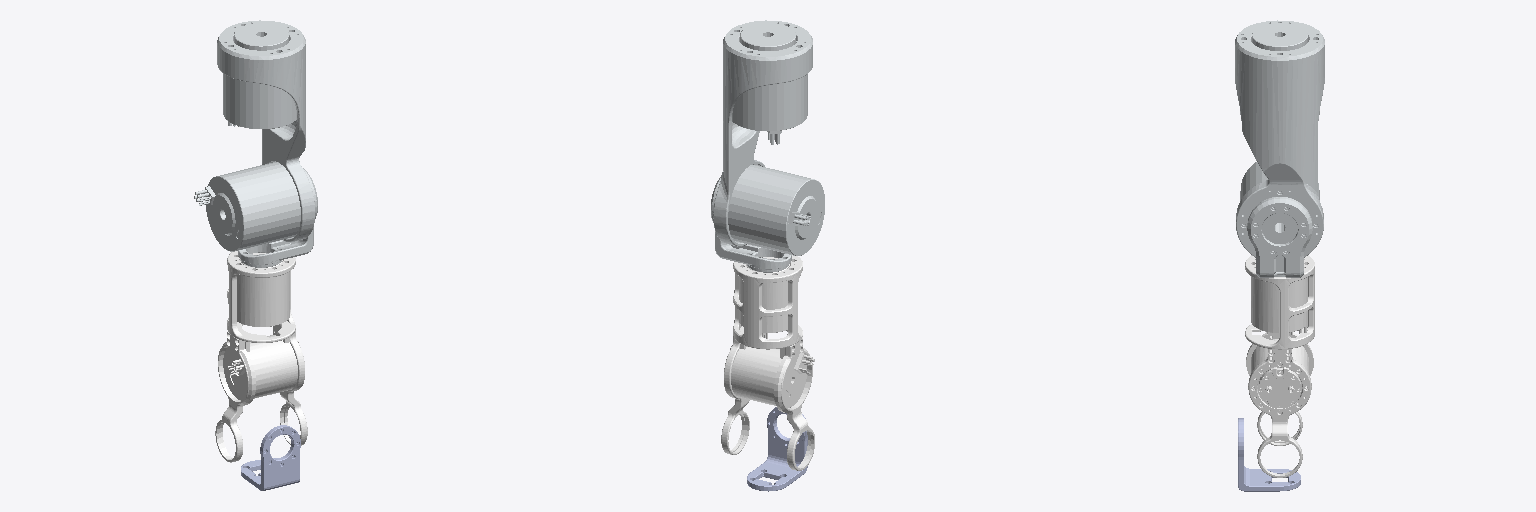
URDF robot description (astral_arm_clean):
<?xml version="1.0" encoding="utf-8"?>
<robot name="astral_arm_clean">
  <!-- single clean arm (left) — positive-MDH joints, meshes re-positioned -->
  <link name="body_link"/>
  <joint name="shoulder_mount" type="fixed">
    <origin xyz="0.09495 0.0 0.412" rpy="3.14159 -1.57079 -3.14159"/>
    <parent link="body_link"/><child link="left_base_link"/>
  </joint>
  <link name="left_base_link"/>
  <link name="left_link1">
    <inertial>
      <origin xyz="3.13242e-05 -0.00413701 0.0135973" rpy="0 0 -1.5708"/>
      <mass value="0.42514393"/>
      <inertia ixx="0.00044603372" ixy="8.7983418e-07" ixz="5.25095e-07" iyy="0.00040079554" iyz="-5.5533145e-05" izz="0.00037515957"/>
    </inertial>
    <visual>
      <origin xyz="5.62591e-23 7.48515e-23 0.11655" rpy="1.11022e-16 0 -1.5708"/>
      <geometry>
        <mesh filename="package://robot_description/meshes/astral/robot/link1.STL"/>
      </geometry>
      <material name=""><color rgba="0.898039215686275 0.917647058823529 0.929411764705882 1"/></material>
    </visual>
    <collision>
      <origin xyz="5.62591e-23 7.48515e-23 0.11655" rpy="1.11022e-16 0 -1.5708"/>
      <geometry>
        <mesh filename="package://robot_description/meshes/astral/robot/link1.STL"/>
      </geometry>
    </collision>
  </link>
  <link name="left_link2">
    <inertial>
      <origin xyz="-2.02098e-07 -0.0515368 0.0257897" rpy="-3.14159 3.67321e-06 -3.14159"/>
      <mass value="0.17039715"/>
      <inertia ixx="0.00017663293" ixy="8.6777047e-11" ixz="8.4043449e-12" iyy="0.00012422282" iyz="-5.0535861e-05" izz="0.00015484256"/>
    </inertial>
    <visual>
      <origin xyz="1.38778e-17 -2.26821e-17 0.00245" rpy="-3.14159 3.67321e-06 -3.14159"/>
      <geometry>
        <mesh filename="package://robot_description/meshes/astral/robot/link2.STL"/>
      </geometry>
      <material name=""><color rgba="0.898039215686275 0.917647058823529 0.929411764705882 1"/></material>
    </visual>
    <collision>
      <origin xyz="1.38778e-17 -2.26821e-17 0.00245" rpy="-3.14159 3.67321e-06 -3.14159"/>
      <geometry>
        <mesh filename="package://robot_description/meshes/astral/robot/link2.STL"/>
      </geometry>
    </collision>
  </link>
  <link name="left_link3">
    <inertial>
      <origin xyz="0.000542082 0.00527332 -0.0739358" rpy="-3.14159 0 1.5708"/>
      <mass value="0.82819752"/>
      <inertia ixx="0.001489869" ixy="-4.7065559e-06" ixz="-1.9878592e-05" iyy="0.001465124" iyz="-0.00017105246" izz="0.0006413192"/>
    </inertial>
    <visual>
      <origin xyz="8.52551e-07 -8.99622e-09 -0.12995" rpy="-3.14159 0 1.5708"/>
      <geometry>
        <mesh filename="package://robot_description/meshes/astral/robot/link3.STL"/>
      </geometry>
      <material name=""><color rgba="0.898039215686275 0.917647058823529 0.929411764705882 1"/></material>
    </visual>
    <collision>
      <origin xyz="8.52551e-07 -8.99622e-09 -0.12995" rpy="-3.14159 0 1.5708"/>
      <geometry>
        <mesh filename="package://robot_description/meshes/astral/robot/link3.STL"/>
      </geometry>
    </collision>
  </link>
  <link name="left_link4">
    <inertial>
      <origin xyz="-1.66812e-06 -0.0305679 -0.0269253" rpy="-3.14159 0 3.14159"/>
      <mass value="0.073287179"/>
      <inertia ixx="6.1153384e-05" ixy="-1.9967372e-10" ixz="2.818663e-09" iyy="3.97927e-05" iyz="1.6775908e-05" izz="5.3300851e-05"/>
    </inertial>
    <visual>
      <origin xyz="-1.33007e-06 -1.79947e-08 5.0009e-05" rpy="-3.14159 0 3.14159"/>
      <geometry>
        <mesh filename="package://robot_description/meshes/astral/robot/link4.STL"/>
      </geometry>
      <material name=""><color rgba="0.898039215686275 0.917647058823529 0.929411764705882 1"/></material>
    </visual>
    <collision>
      <origin xyz="-1.33007e-06 -1.79947e-08 5.0009e-05" rpy="-3.14159 0 3.14159"/>
      <geometry>
        <mesh filename="package://robot_description/meshes/astral/robot/link4.STL"/>
      </geometry>
    </collision>
  </link>
  <link name="left_link5">
    <inertial>
      <origin xyz="0.00172649 0.000917268 -0.103295" rpy="7.3464e-06 -3.67321e-06 1.5708"/>
      <mass value="0.35747963"/>
      <inertia ixx="0.00024554352" ixy="-3.26533e-07" ixz="-2.004814e-06" iyy="0.00023855009" iyz="-2.2637367e-07" izz="0.00014874829"/>
    </inertial>
    <visual>
      <origin xyz="1.6309e-06 -3.09829e-07 -0.1446" rpy="7.3464e-06 -3.67321e-06 1.5708"/>
      <geometry>
        <mesh filename="package://robot_description/meshes/astral/robot/link5.STL"/>
      </geometry>
      <material name=""><color rgba="1 1 1 1"/></material>
    </visual>
    <collision>
      <origin xyz="1.6309e-06 -3.09829e-07 -0.1446" rpy="7.3464e-06 -3.67321e-06 1.5708"/>
      <geometry>
        <mesh filename="package://robot_description/meshes/astral/robot/link5.STL"/>
      </geometry>
    </collision>
  </link>
  <link name="left_link6">
    <inertial>
      <origin xyz="7.58827e-05 -0.00209334 1.39388e-05" rpy="7.34638e-06 1.34923e-11 1.57079"/>
      <mass value="0.2233261"/>
      <inertia ixx="0.00012507521" ixy="-5.1107819e-07" ixz="1.4489751e-09" iyy="0.00011919168" iyz="5.4472443e-09" izz="0.00011688215"/>
    </inertial>
    <visual>
      <origin xyz="1.08921e-07 2.82029e-06 0.0346008" rpy="7.34638e-06 1.34923e-11 1.57079"/>
      <geometry>
        <mesh filename="package://robot_description/meshes/astral/robot/link6.STL"/>
      </geometry>
      <material name=""><color rgba="0.866666666666667 0.866666666666667 0.890196078431372 1"/></material>
    </visual>
    <collision>
      <origin xyz="1.08921e-07 2.82029e-06 0.0346008" rpy="7.34638e-06 1.34923e-11 1.57079"/>
      <geometry>
        <mesh filename="package://robot_description/meshes/astral/robot/link6.STL"/>
      </geometry>
    </collision>
  </link>
  <link name="left_link7">
    <inertial>
      <origin xyz="-5.11057e-05 -0.0259945 0.019984" rpy="1.46928e-05 -3.67316e-06 -7.34641e-06"/>
      <mass value="0.015413107"/>
      <inertia ixx="8.042906e-06" ixy="-9.9996338e-12" ixz="-9.6024397e-12" iyy="5.6512939e-06" iyz="-2.0667749e-06" izz="6.483251e-06"/>
    </inertial>
    <visual>
      <origin xyz="-5.0841e-05 -1.71344e-07 -2.82029e-06" rpy="1.46928e-05 -3.67316e-06 -7.34641e-06"/>
      <geometry>
        <mesh filename="package://robot_description/meshes/astral/robot/link7.STL"/>
      </geometry>
      <material name=""><color rgba="0.792156862745098 0.819607843137255 0.933333333333333 1"/></material>
    </visual>
    <collision>
      <origin xyz="-5.0841e-05 -1.71344e-07 -2.82029e-06" rpy="1.46928e-05 -3.67316e-06 -7.34641e-06"/>
      <geometry>
        <mesh filename="package://robot_description/meshes/astral/robot/link7.STL"/>
      </geometry>
    </collision>
  </link>
  <joint name="left_joint1" type="revolute">
    <origin xyz="0 0 -0.11655" rpy="0 0 3.14159"/>
    <parent link="left_base_link"/>
    <child link="left_link1"/>
    <axis xyz="0 0 1"/>
    <limit lower="-3.15" upper="3.15" effort="100" velocity="10"/>
  </joint>
  <joint name="left_joint2" type="revolute">
    <origin xyz="0 -0 0" rpy="1.5708 -1.5708 0"/>
    <parent link="left_link1"/>
    <child link="left_link2"/>
    <axis xyz="0 0 1"/>
    <limit lower="-3.15" upper="3.15" effort="100" velocity="10"/>
  </joint>
  <joint name="left_joint3" type="revolute">
    <origin xyz="0 -0.246 1.50632e-17" rpy="1.5708 -1.5708 0"/>
    <parent link="left_link2"/>
    <child link="left_link3"/>
    <axis xyz="0 0 1"/>
    <limit lower="-3.15" upper="3.15" effort="100" velocity="10"/>
  </joint>
  <joint name="left_joint4" type="revolute">
    <origin xyz="0 -0 0" rpy="-1.5708 0 3.14159"/>
    <parent link="left_link3"/>
    <child link="left_link4"/>
    <axis xyz="0 0 1"/>
    <limit lower="-3.15" upper="3.15" effort="100" velocity="10"/>
  </joint>
  <joint name="left_joint5" type="revolute">
    <origin xyz="0 -0.2265 1.38691e-17" rpy="-1.5708 0 3.14159"/>
    <parent link="left_link4"/>
    <child link="left_link5"/>
    <axis xyz="0 0 1"/>
    <limit lower="-3.15" upper="3.15" effort="100" velocity="10"/>
  </joint>
  <joint name="left_joint6" type="revolute">
    <origin xyz="0 -0 0" rpy="1.5708 1.5708 0"/>
    <parent link="left_link5"/>
    <child link="left_link6"/>
    <axis xyz="0 0 1"/>
    <limit lower="-3.15" upper="3.15" effort="100" velocity="10"/>
  </joint>
  <joint name="left_joint7" type="revolute">
    <origin xyz="0 -0.0036 2.20436e-19" rpy="1.5708 1.5708 0"/>
    <parent link="left_link6"/>
    <child link="left_link7"/>
    <axis xyz="0 0 1"/>
    <limit lower="-3.15" upper="3.15" effort="100" velocity="10"/>
  </joint>
</robot>

--- What the picture shows (computed from the rendered views, not written in the file) ---
Views: 3 orthographic renders of the robot side by side, from view 1: azimuth 30°, elevation 25°; view 2: azimuth 150°, elevation 25°; view 3: azimuth 270°, elevation 25°.
Robot: astral_arm_clean — 9 links, 8 joints (7 revolute, 1 fixed); root link body_link; default pose: all joints at 0.
Visible links, largest first — view 1: left_link3, left_link5, left_link7, left_link4; view 2: left_link3, left_link5, left_link7, left_link4; view 3: left_link3, left_link5, left_link4, left_link7.
Link boxes in pixels (box(x1,y1,x2,y2)): left_link3: box(194, 20, 314, 251); left_link5: box(215, 251, 307, 462); left_link7: box(241, 425, 300, 490); left_link4: box(238, 168, 317, 267); left_link3: box(713, 20, 824, 255); left_link5: box(721, 255, 814, 470); left_link7: box(747, 407, 807, 491); left_link4: box(711, 175, 791, 272); left_link3: box(1235, 20, 1324, 257); left_link5: box(1245, 255, 1314, 477); left_link4: box(1247, 197, 1312, 277); left_link7: box(1238, 418, 1300, 491).
Bounding box of the posed robot: 0.0976 × 0.08 × 0.4375 m (x, y, z).
4 mesh visuals loaded from 7 distinct referenced files (4 binary STL); not drawn: 3 (reference not matched to a file when rendering).
